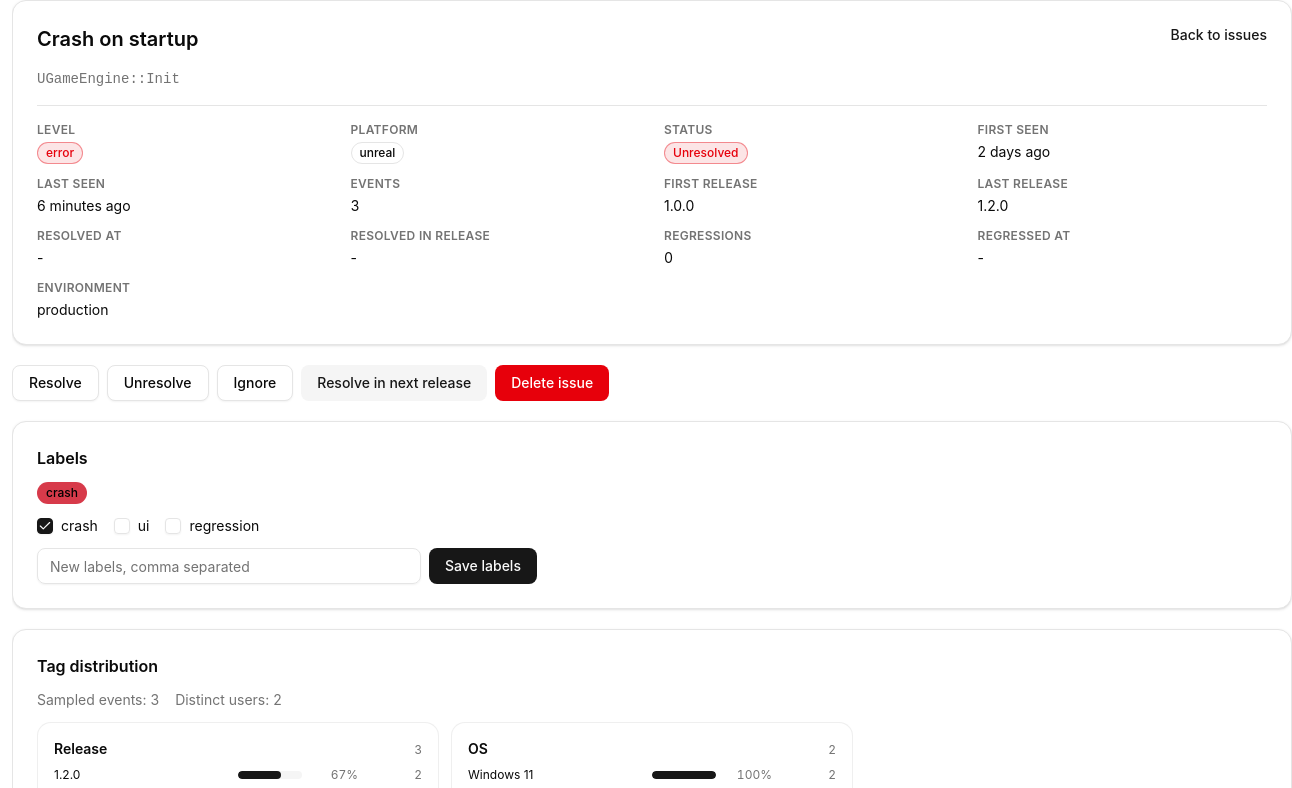
Scenario: IssueDetailPage › shows an action error when a status update fails
This screenshot has width=1292, height=788.
Click the button "Resolve": (55,383) [12,365,99,401]
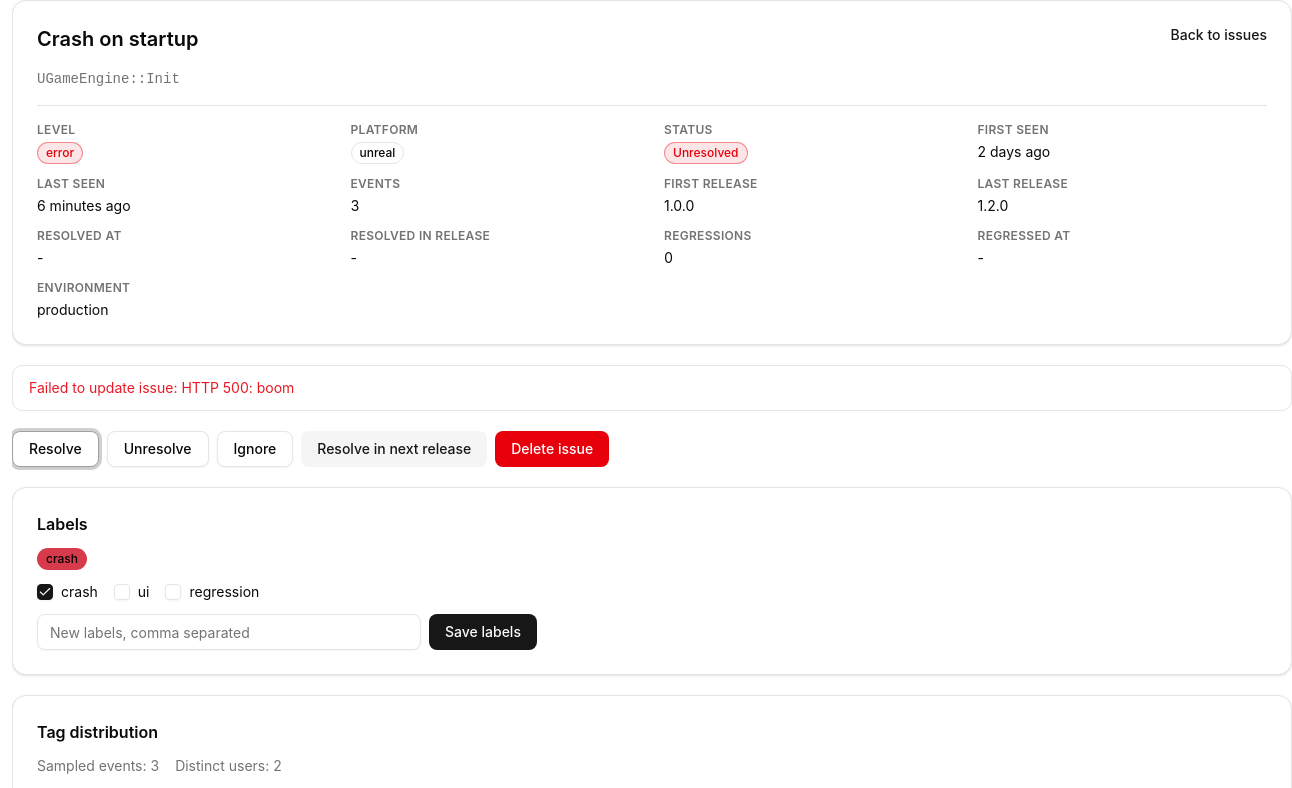
Expected: the text "Unresolved" is shown, [664,142,748,164]
Expected: the text "Failed to update issue: HTTP 500: boom" is shown, [29,379,294,396]
